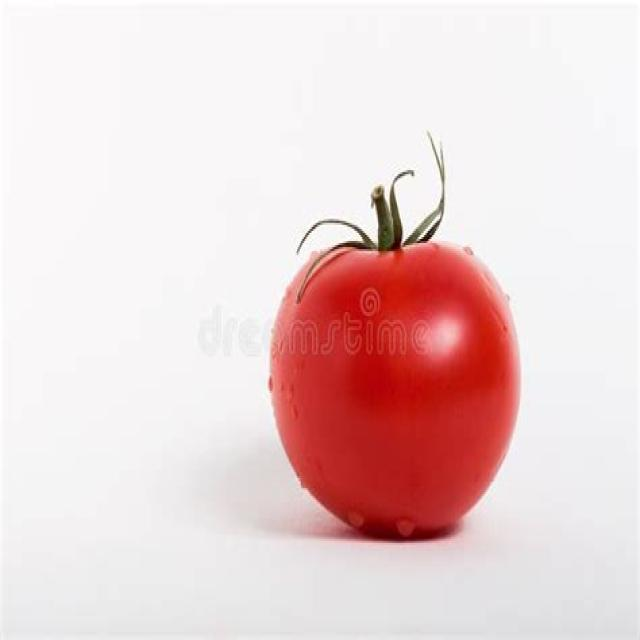Tomato: (266, 187, 525, 543)
